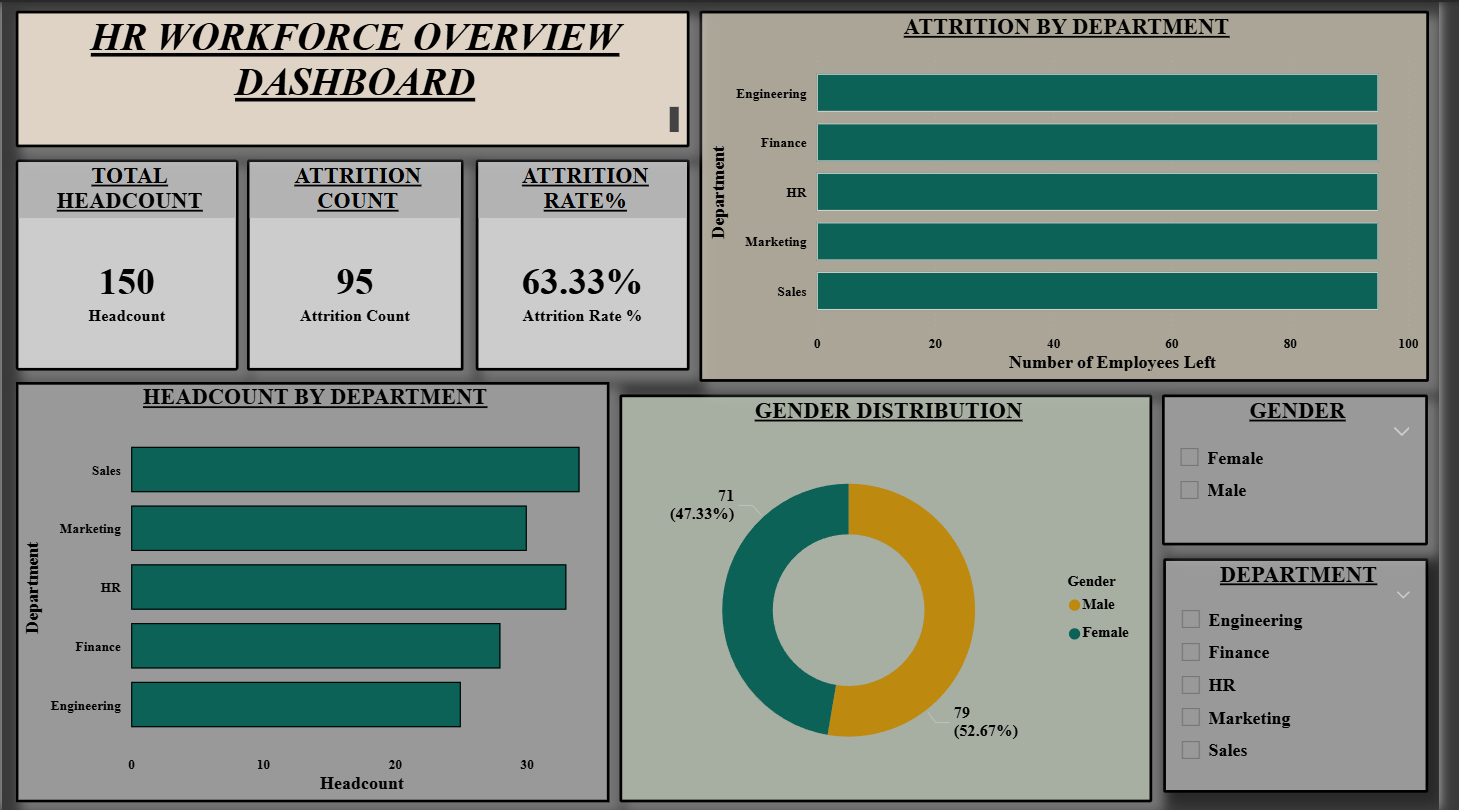

This screenshot's page, from the dashboard's own definition file:
{"tool":"powerbi","page":{"name":"HR Workforce Overview","canvas":[1280,720],"ordinal":0},"visuals":[{"type":"card","title":"TOTAL  HEADCOUNT","fields":{"Values":["Employee_dataset.Headcount"]},"box":[12.4,139.8,198.4,188.2],"z":0},{"type":"card","title":"ATTRITION COUNT","fields":{"Values":["Employee_dataset.Attrition Count"]},"box":[218.7,139.8,192.7,188.2],"z":1000},{"type":"card","title":"ATTRITION RATE%","fields":{"Values":["Employee_dataset.Attrition Rate %"]},"box":[421.5,139.8,190.5,188.2],"z":2000},{"type":"clusteredBarChart","title":"HEADCOUNT BY DEPARTMENT","fields":{"Y":["Employee_dataset.Headcount"],"Category":["dDepartment.department"]},"box":[12.4,338.1,528.6,374.2],"z":3000},{"type":"donutChart","title":"GENDER DISTRIBUTION","fields":{"Category":["dEmployee.gender"],"Y":["Employee_dataset.Headcount"]},"box":[550,349.4,474.5,362.9],"z":4000},{"type":"clusteredBarChart","title":"ATTRITION  BY DEPARTMENT","fields":{"Category":["dDepartment.department"],"Y":["Employee_dataset.Attrition Count"]},"box":[621,7.9,649.2,330.2],"z":5000},{"type":"slicer","title":"DEPARTMENT","fields":{"Values":["dDepartment.department"]},"box":[1033.8,495,236.2,208.8],"z":6000},{"type":"slicer","title":"GENDER","fields":{"Values":["dEmployee.gender"]},"box":[1033.6,349.4,236.7,134.1],"z":7000},{"type":"textbox","title":"HR WORKFORCE OVERVIEW DASHBOARD","box":[12.4,7.9,599.6,121.7],"z":8000}]}

Visuals, with their boxes in screenshot pixels (x1, y1, x2, y2), scaled from the page's 1280x720 canvas onto the 1459x810 screenshot:
"TOTAL  HEADCOUNT" card: region(14, 157, 240, 369)
"ATTRITION COUNT" card: region(249, 157, 469, 369)
"ATTRITION RATE%" card: region(480, 157, 698, 369)
"HEADCOUNT BY DEPARTMENT" clusteredBarChart: region(14, 380, 617, 801)
"GENDER DISTRIBUTION" donutChart: region(627, 393, 1168, 801)
"ATTRITION  BY DEPARTMENT" clusteredBarChart: region(708, 9, 1448, 380)
"DEPARTMENT" slicer: region(1178, 557, 1448, 792)
"GENDER" slicer: region(1178, 393, 1448, 544)
"HR WORKFORCE OVERVIEW DASHBOARD" textbox: region(14, 9, 698, 146)
